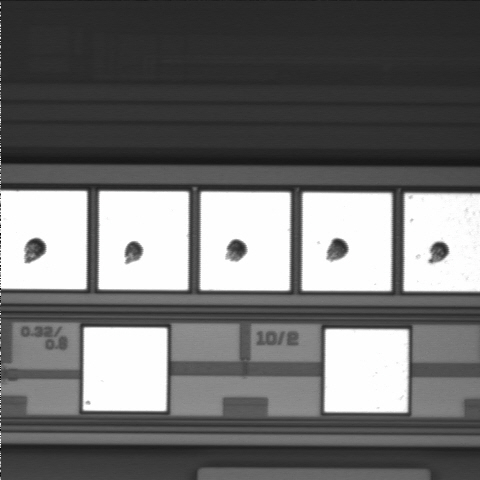pad: (99, 191, 189, 290), (200, 192, 290, 291), (302, 193, 392, 291), (83, 328, 167, 411), (325, 329, 408, 412)
